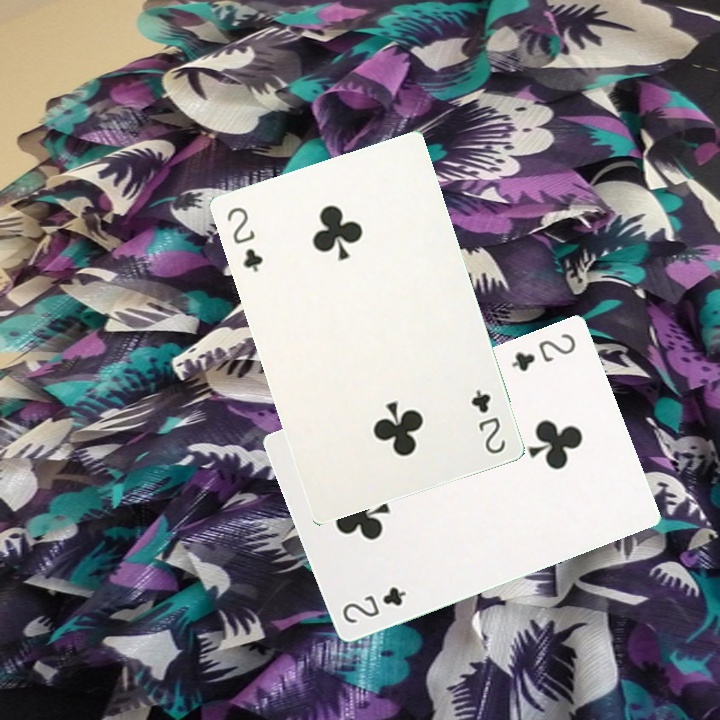2c: (507, 329, 579, 374), (222, 203, 266, 275), (338, 582, 409, 626), (466, 385, 508, 457)
